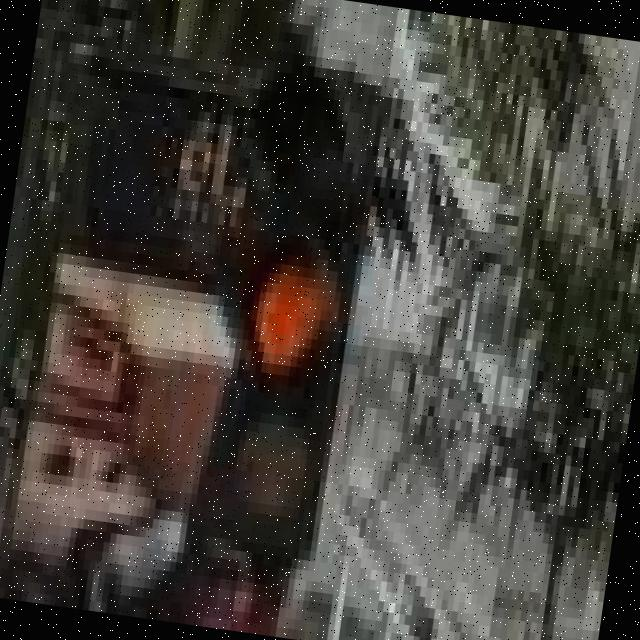Zolte swiatlo: (185, 68, 382, 562)
